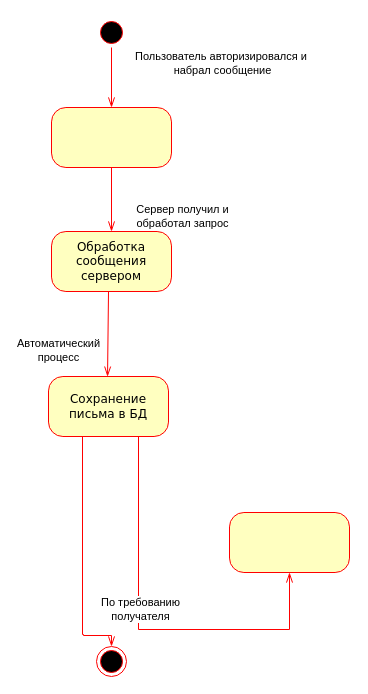
Image size: 368x694. Some labels were removed from this diagram. The centre of each missing label's shape, as x and y in pixels:
Отправка сообщений на сервер: point (111, 137)
Отправка сообщения получателю: point (289, 542)
